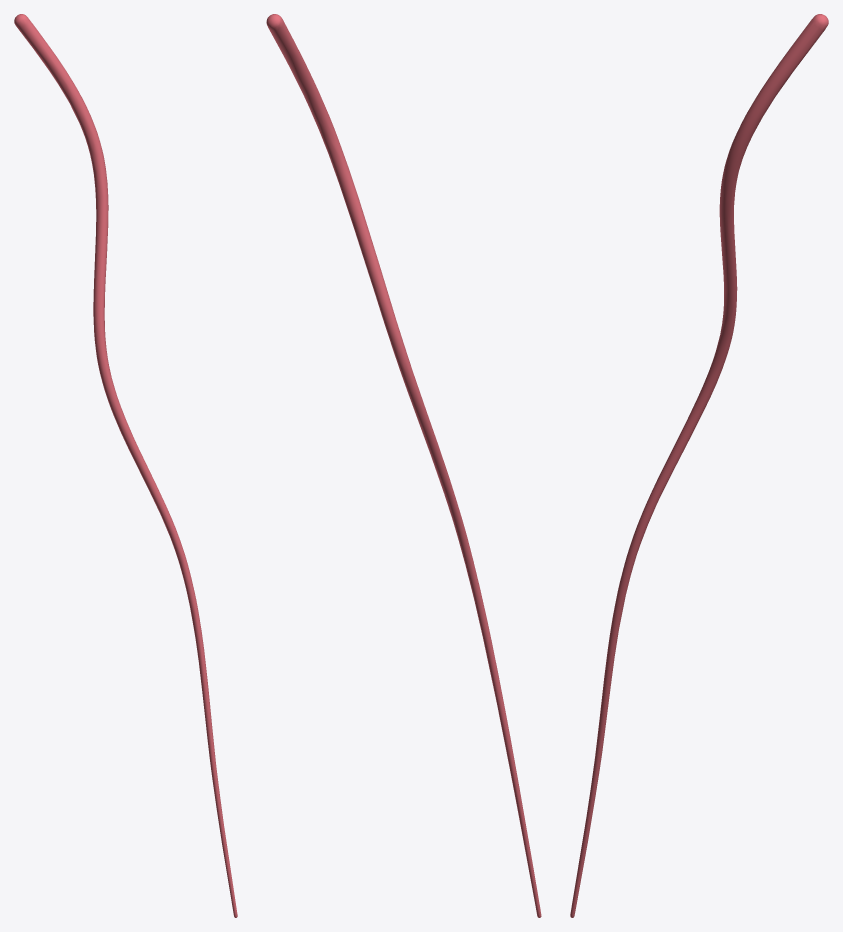
Rendered from fma22812_fj2266.glb.
3 renders of one model, left to right at view 1: azimuth 90°, elevation 25°; view 2: azimuth 150°, elevation 25°; view 3: azimuth 270°, elevation 25°, orthographic. The views are drawn at different scales.
Parts seen in each view (by area): view 1: FMA22812_FJ2266; view 2: FMA22812_FJ2266; view 3: FMA22812_FJ2266.
Part boxes in pixels (x1=…): FMA22812_FJ2266: x1=14, y1=14, x2=237, y2=917; FMA22812_FJ2266: x1=266, y1=14, x2=541, y2=917; FMA22812_FJ2266: x1=570, y1=14, x2=828, y2=917.
Bounding box in the file's own units: 0.0238 × 0.1434 × 0.0345.
